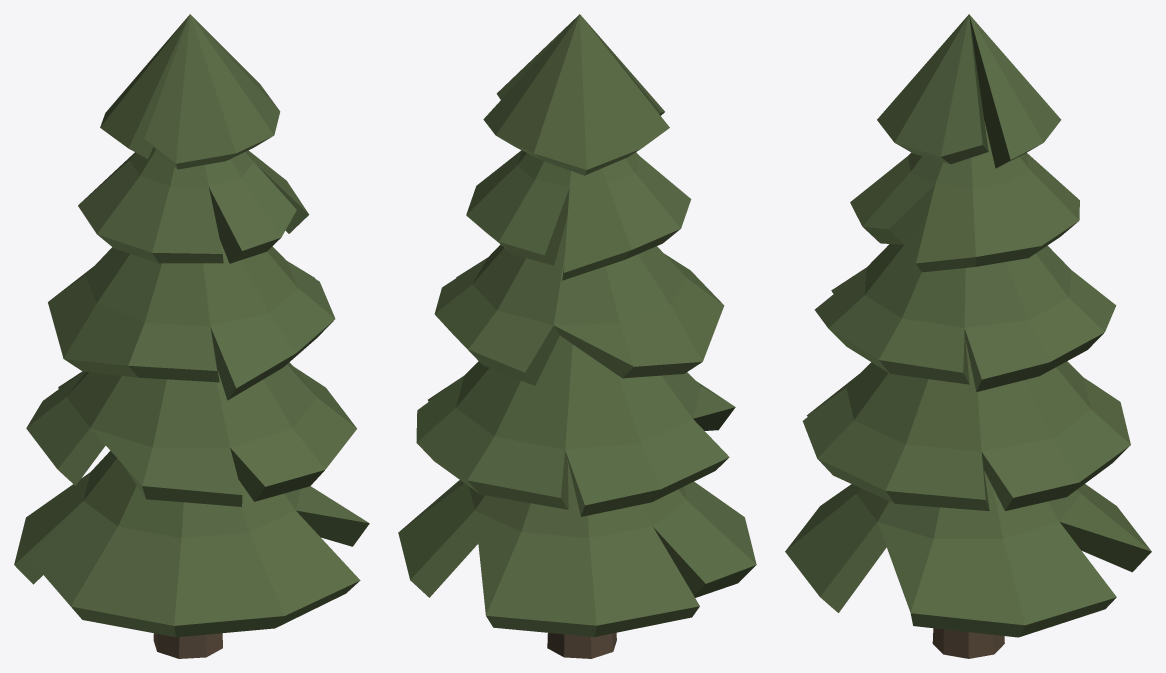
File: SM_Envr_Nature_Tree_Pine_01.fbx
3 views of the same model, side by side, from view 1: azimuth 30°, elevation 25°; view 2: azimuth 150°, elevation 25°; view 3: azimuth 270°, elevation 25° (orthographic).
Parts seen in each view (by area): view 1: SM_Envr_Nature_Tree_Pine_01; view 2: SM_Envr_Nature_Tree_Pine_01; view 3: SM_Envr_Nature_Tree_Pine_01.
Boxes of the visible parts, x1,y1,x2,y2 form: SM_Envr_Nature_Tree_Pine_01: (14, 14, 369, 658); SM_Envr_Nature_Tree_Pine_01: (398, 14, 756, 658); SM_Envr_Nature_Tree_Pine_01: (785, 14, 1151, 658).
Bounding box in the file's own units: 280 × 558 × 294.
